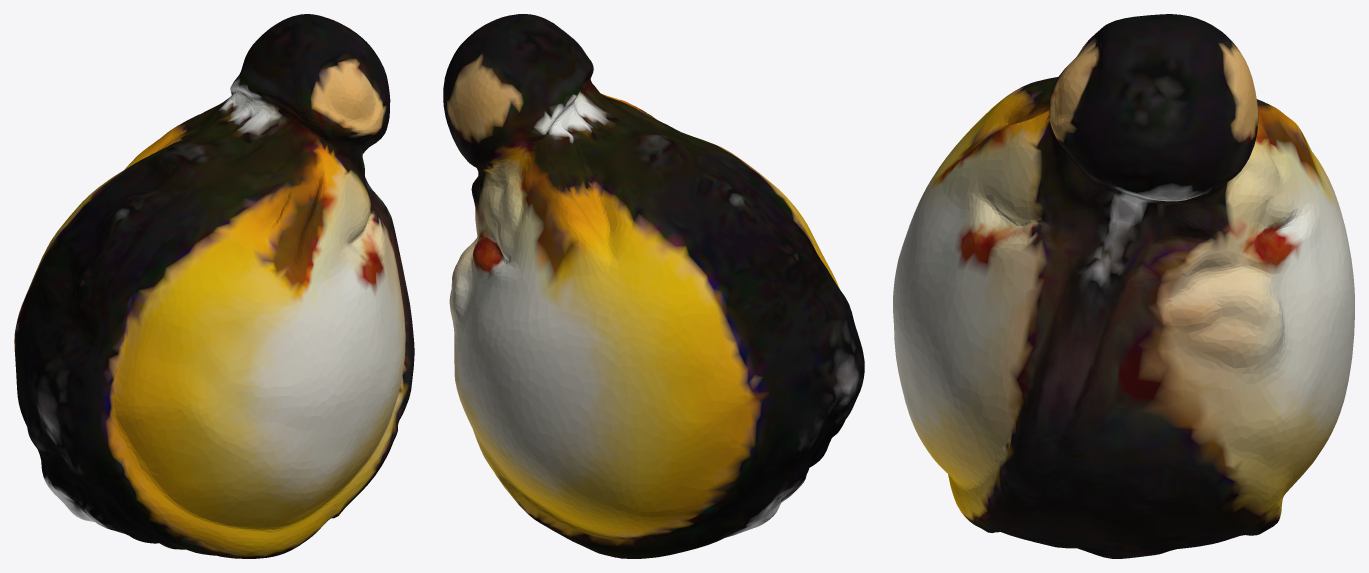
The model's file is potioninv.glb.
3 renders of one model, left to right at view 1: azimuth 30°, elevation 25°; view 2: azimuth 150°, elevation 25°; view 3: azimuth 270°, elevation 25°, orthographic. The views are drawn at different scales.
Visible parts, largest first — view 1: geometry_0; view 2: geometry_0; view 3: geometry_0.
Boxes of the visible parts, box(x1,y1,x2,y2) form: geometry_0: box(14, 14, 414, 558); geometry_0: box(443, 14, 864, 558); geometry_0: box(893, 14, 1354, 558).
Size of the model in its own units: 0.375 by 0.4775 by 0.335.
